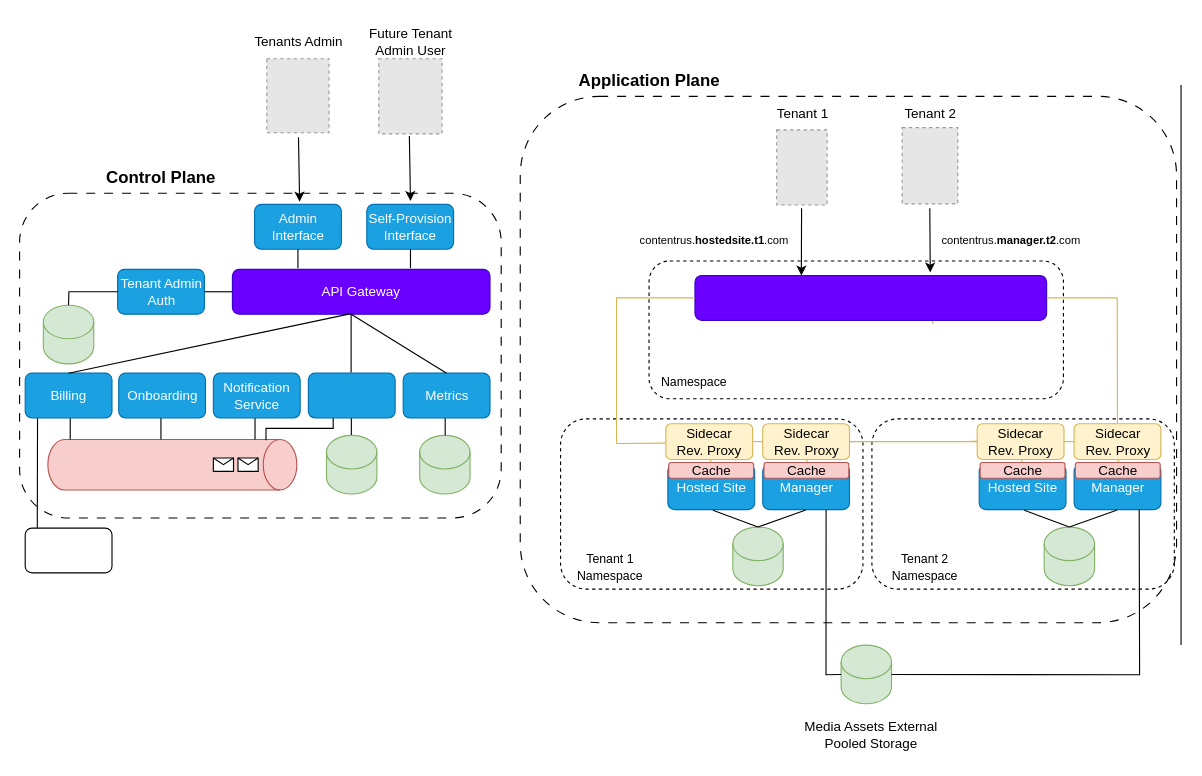
The diagram is 1202 pixels wide and 776 high, and some of its shapes have lost their labels. Grey dashed boxes stand in for pictures. Here are the shapes that lost their labels. From the top down, the centre of each, then its label:
At (870,297): "Ingress Gateway (edge proxy for incoming traffic)".
At (351,395): "Tenant Management".
At (68,550): "External Billing Provid".
